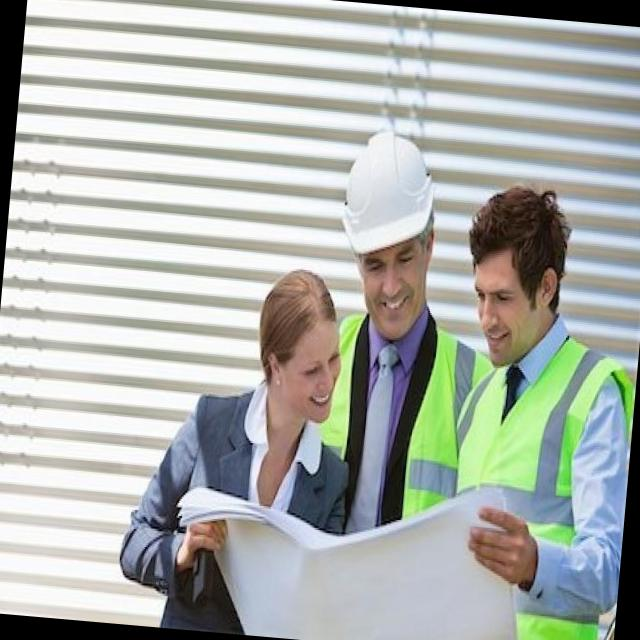hard_hat: (323, 118, 446, 290)
safety_vest: (467, 344, 606, 626), (328, 316, 454, 513)
